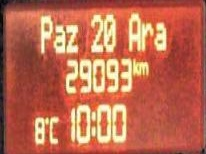0: (111, 100, 128, 142), (96, 101, 111, 144), (75, 103, 89, 143), (102, 12, 116, 50), (91, 56, 105, 93)
1: (69, 103, 74, 143)
2: (89, 10, 102, 53), (65, 54, 76, 93)
3: (119, 56, 131, 94)
8: (33, 113, 44, 143)
9: (105, 54, 118, 93), (78, 56, 90, 94)
X: (38, 11, 51, 55), (66, 19, 80, 54), (128, 12, 140, 50), (154, 18, 167, 52), (141, 18, 152, 52), (53, 20, 64, 53), (49, 114, 59, 144), (90, 105, 95, 137), (139, 57, 148, 74), (132, 56, 138, 76)
